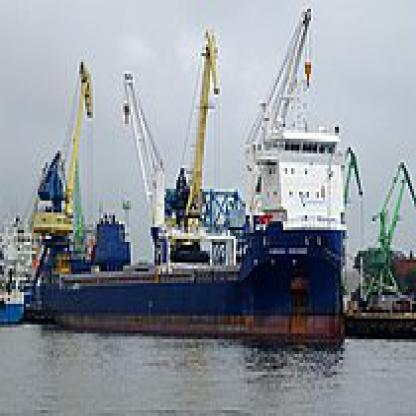Container Ship: (22, 6, 362, 349)
